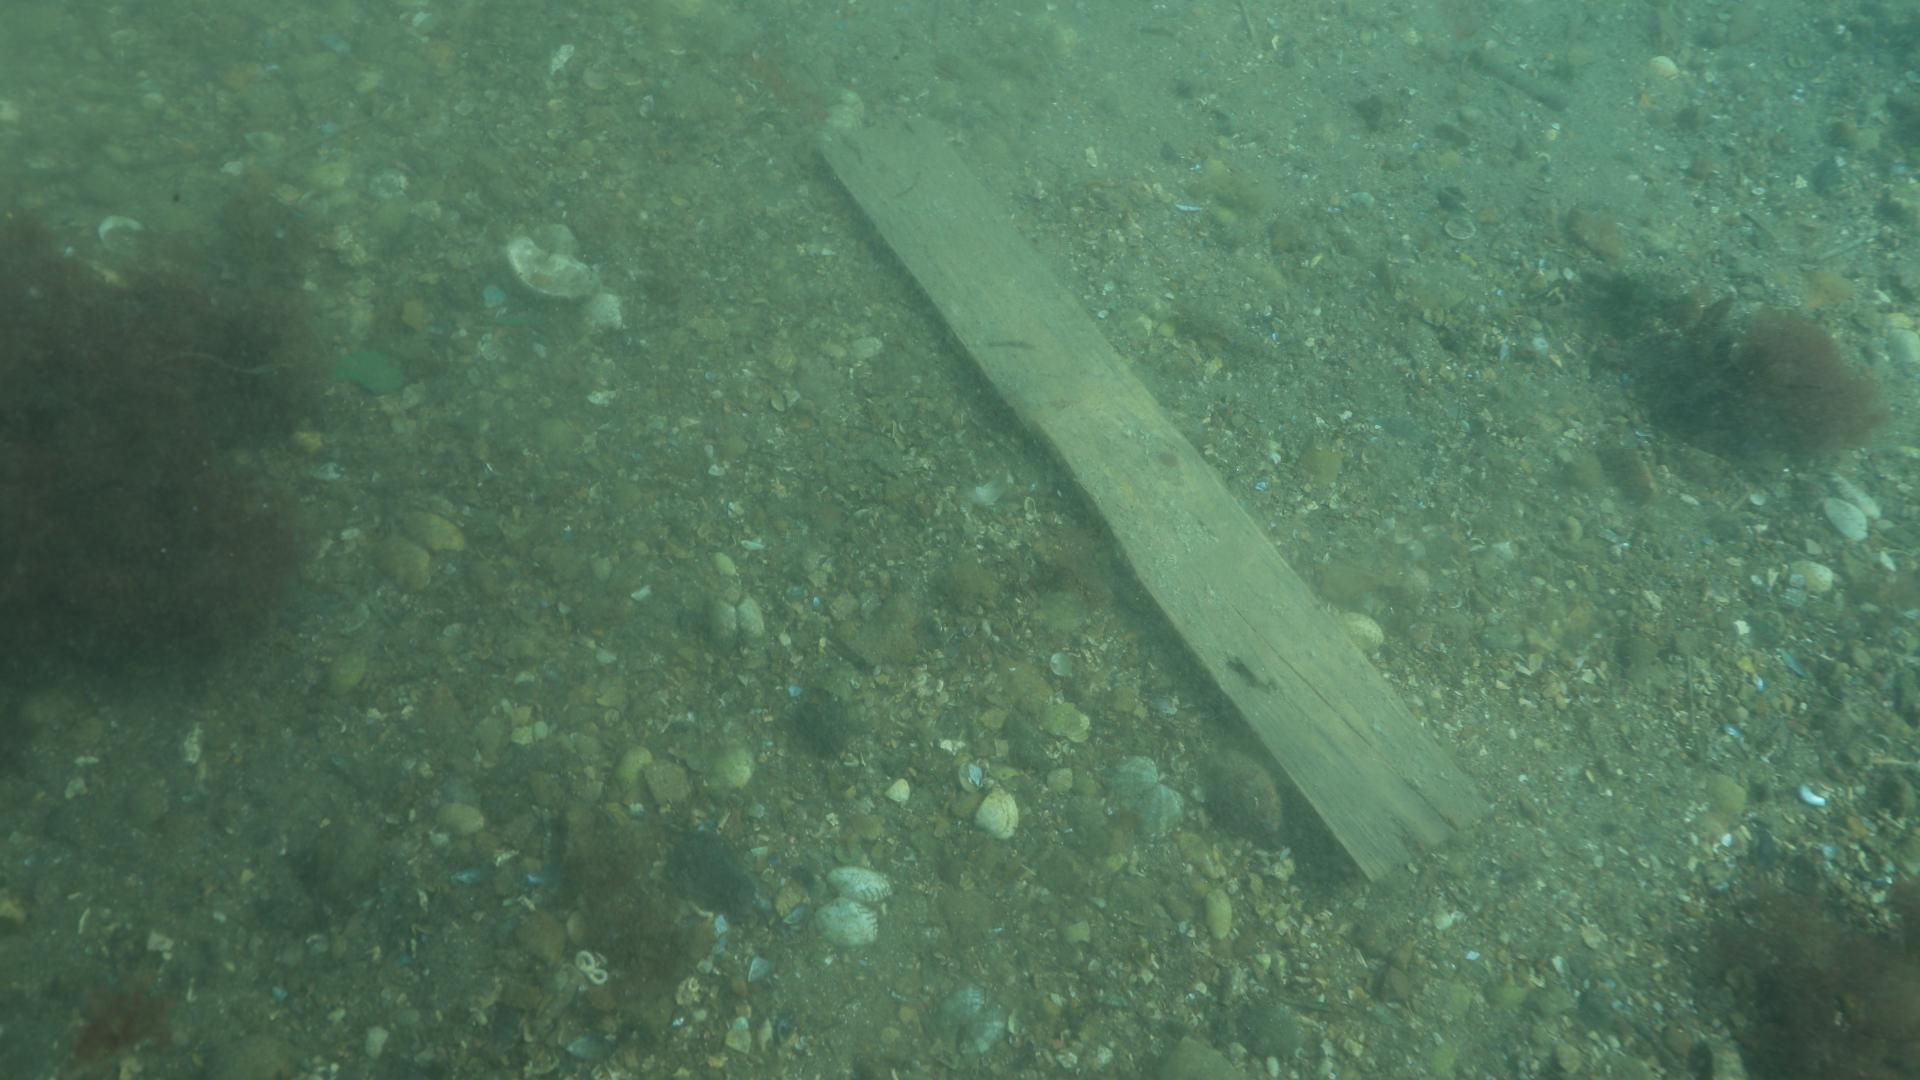wood: (814, 109, 1498, 889)
